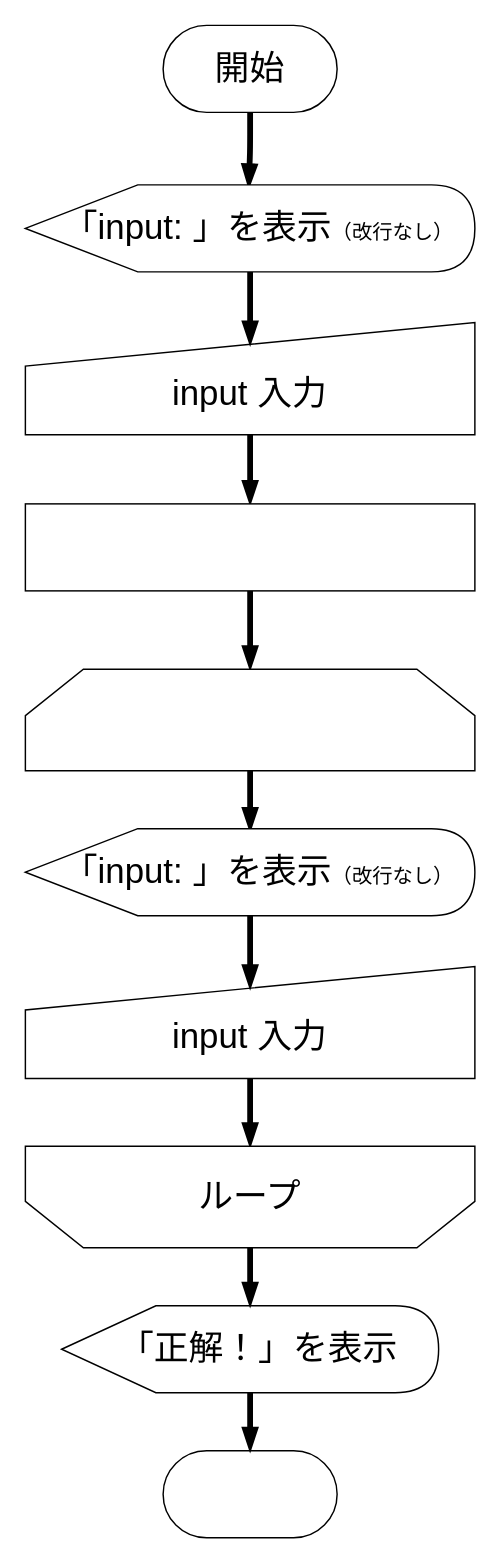
This 500x1563 diagram has some shape labels left out. Each missing label, with the centre of its shape:
"correct ← 7" goes at (x=249, y=546).
"ループ input ≠ correct" goes at (x=249, y=719).
"終了" goes at (x=249, y=1493).
